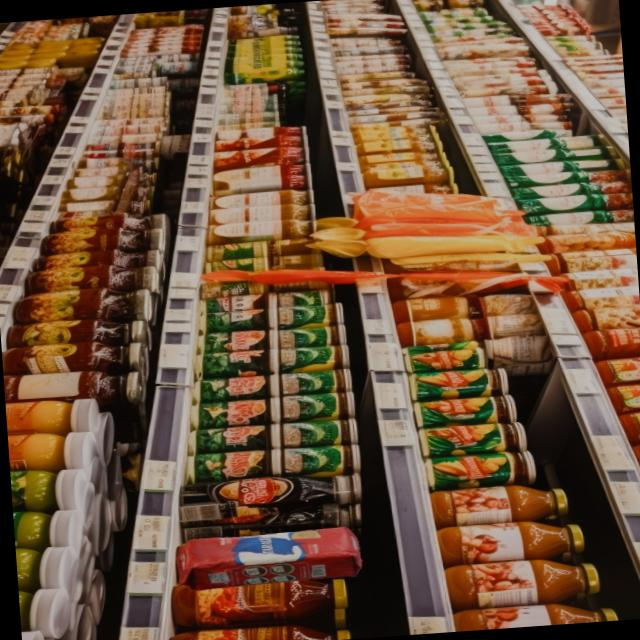mate bag: (178, 525, 368, 590)
